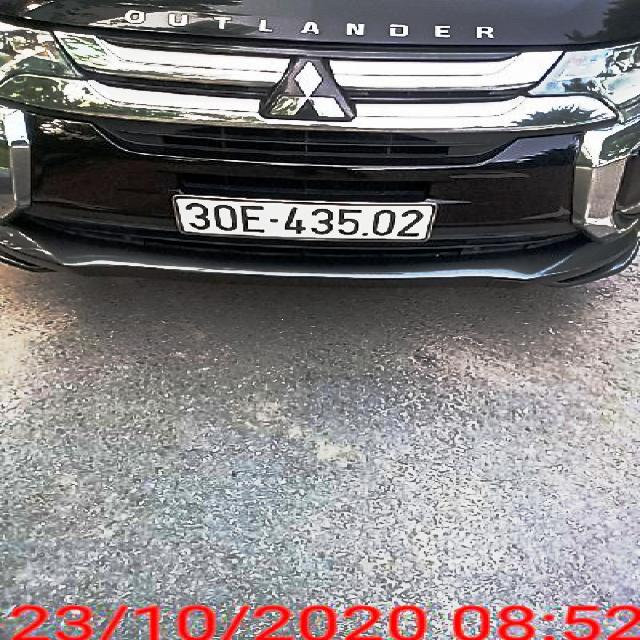license_plate: (175, 195, 441, 242)
